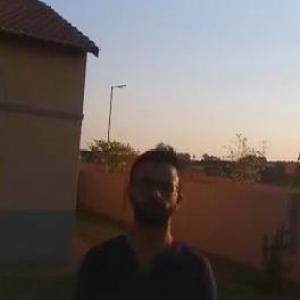follow: (65, 135, 222, 299)
